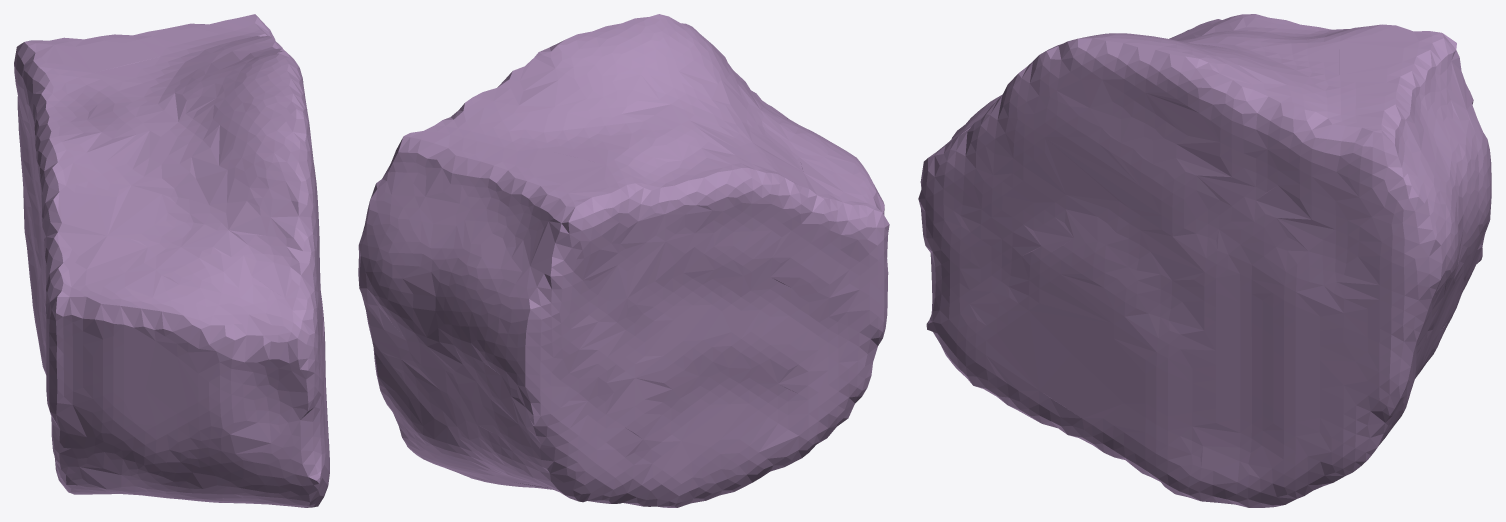
Rendered from Model_148_RH__Visual_area_5_(middle_temporal_area)_(V5).obj.
The picture shows the model from 3 angles, left to right: view 1: azimuth 30°, elevation 25°; view 2: azimuth 150°, elevation 25°; view 3: azimuth 270°, elevation 25°; orthographic projection. The views are drawn at different scales.
Bounding box in the file's own units: 2.75 × 3.01 × 3.6.
